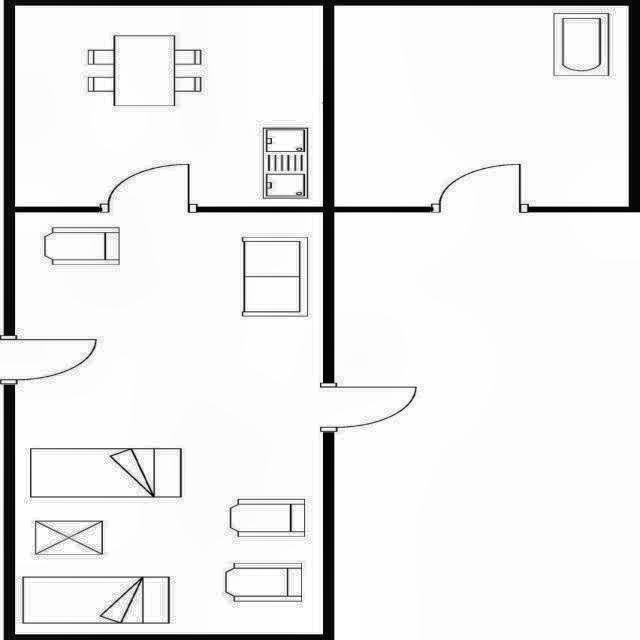room: (15, 212, 323, 634), (15, 6, 323, 207), (334, 6, 629, 207)
